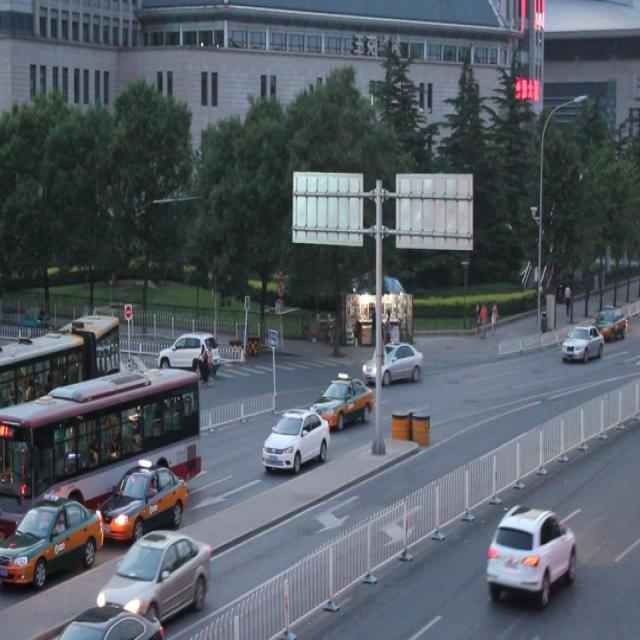car: (99, 523, 212, 630), (1, 492, 106, 588), (484, 502, 576, 605), (103, 456, 189, 540), (57, 596, 164, 640), (262, 408, 331, 471), (309, 369, 372, 427), (159, 332, 218, 384), (363, 338, 421, 388), (128, 367, 172, 413), (560, 324, 602, 359)
van: (1, 372, 200, 544), (1, 314, 120, 416)
